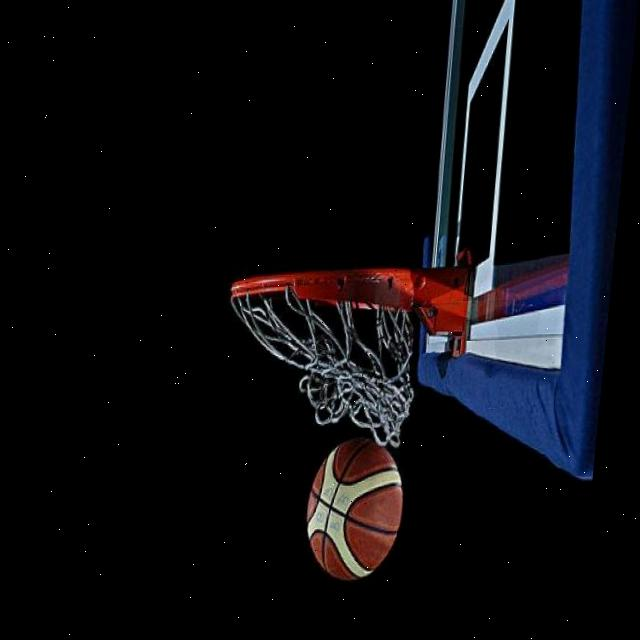Basketball: (300, 435, 406, 581)
